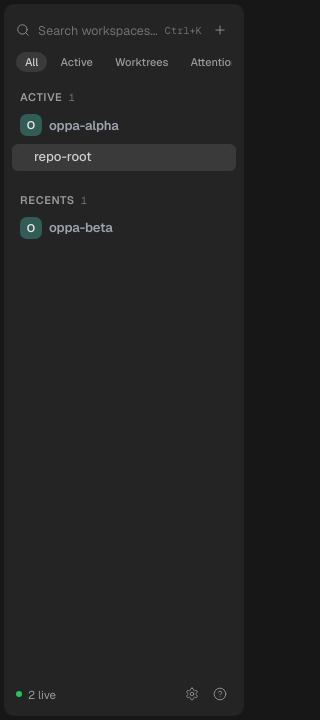
it: LeftSidebar › filters the list through section chips without touching search
Expected: the element named "filter workspaces" is shown, [16, 44, 232, 74]
What coordinates should you click on to do the following:
click the button "Worktrees"
I would click on:
 (142, 62)
Its box is [106, 52, 177, 72].
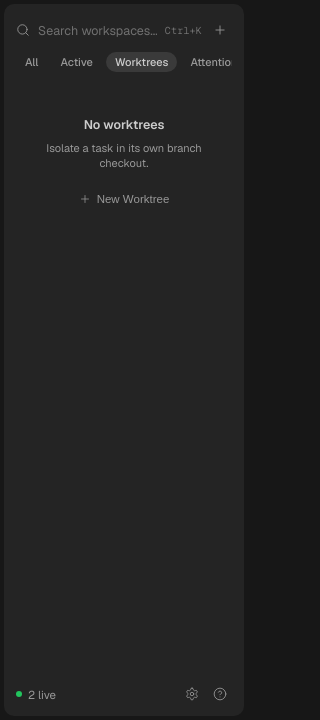
Expected: the field with placeholder "Search workspaces..." is empty, [38, 22, 157, 38]
Now the button "oppa-alpha" is gone
Now the text "No worktrees" is shown, box [84, 116, 164, 133]
What coordinates should you click on to do the following:
click the button "All"
I would click on:
 (32, 62)
Its box is [16, 52, 47, 72].
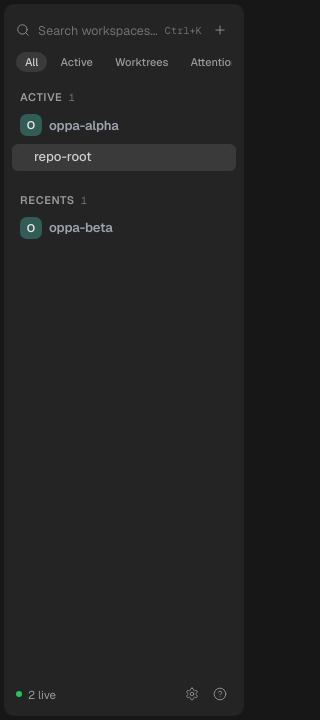
Now the text "oppa-alpha" is shown, box [49, 116, 119, 134]
